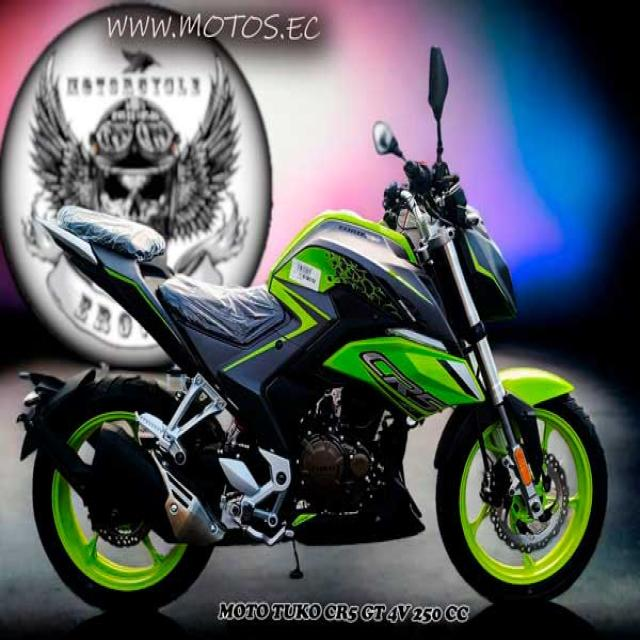MOTORCYCLE: (6, 140, 625, 613)
